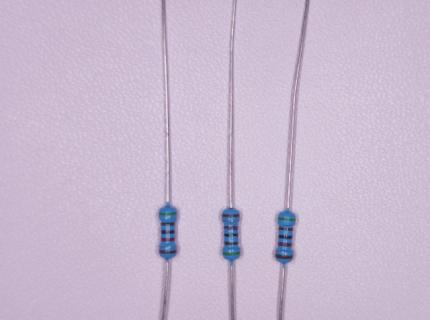Black band: (161, 230, 175, 234), (224, 233, 238, 237), (279, 235, 292, 239)
Brown band: (276, 254, 293, 259), (278, 226, 293, 231), (160, 250, 176, 254), (222, 214, 240, 217), (225, 242, 237, 246), (161, 223, 174, 225)
Orange band: (278, 217, 296, 221), (223, 252, 240, 256), (159, 213, 177, 216)
Red band: (279, 242, 291, 247), (162, 238, 175, 241), (225, 226, 238, 229)
